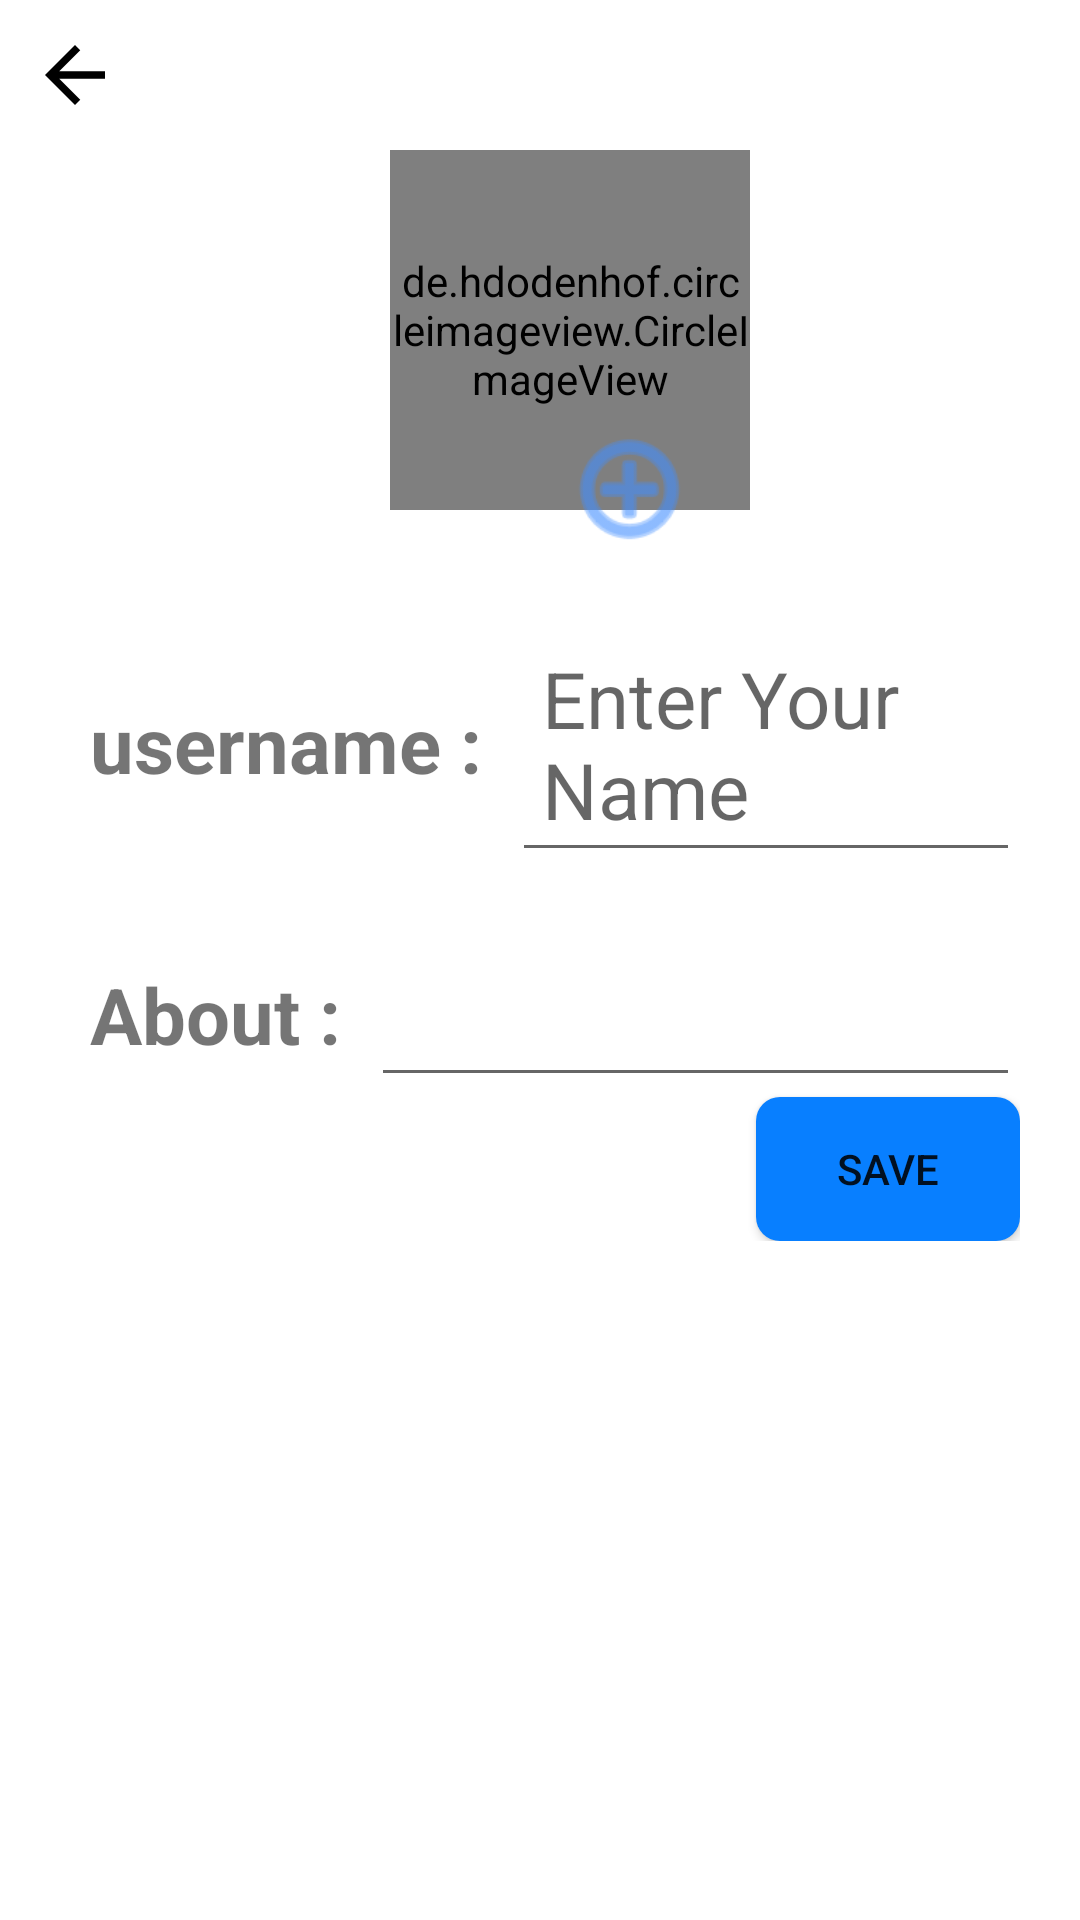

Screen size 1080px x 1920px. Icon name, then its center in pixels as (x,y):
add: (629,488)
